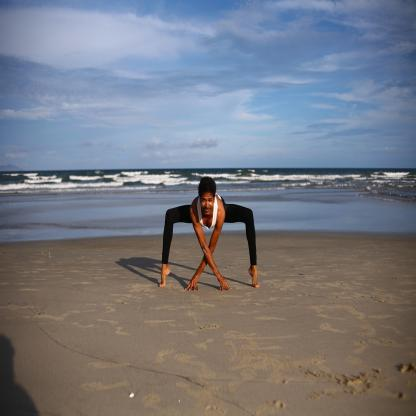godness: (156, 172, 266, 300)
